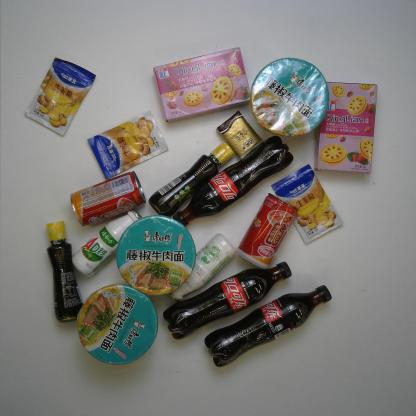Canned Food: (236, 192, 300, 270), (69, 169, 147, 227)
Dessert: (152, 46, 251, 123), (312, 80, 378, 175)
Drink: (172, 134, 295, 227), (203, 284, 333, 369), (162, 260, 293, 341)
Instant Noodles: (114, 214, 198, 297), (76, 283, 159, 366), (249, 56, 331, 138)
Milk: (72, 208, 143, 278), (169, 233, 238, 303)
Seasoner: (148, 140, 236, 218), (270, 162, 345, 244), (24, 56, 97, 138), (87, 110, 168, 180), (45, 221, 84, 324)
Tissue: (216, 110, 264, 160)
